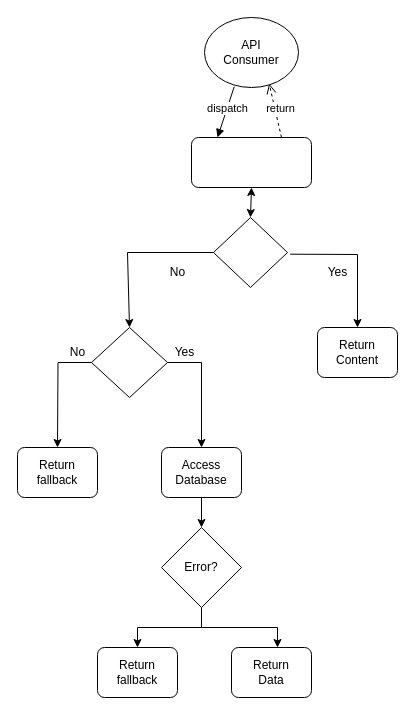
Image size: 415x715. Some labels were removed from this diagram. The shapes that lost their labels are listed below. From the top down, each one's centre as x and y in pixels, then its label:
(x=251, y=162): Controller
(x=250, y=252): Static Content?
(x=129, y=362): Model?
